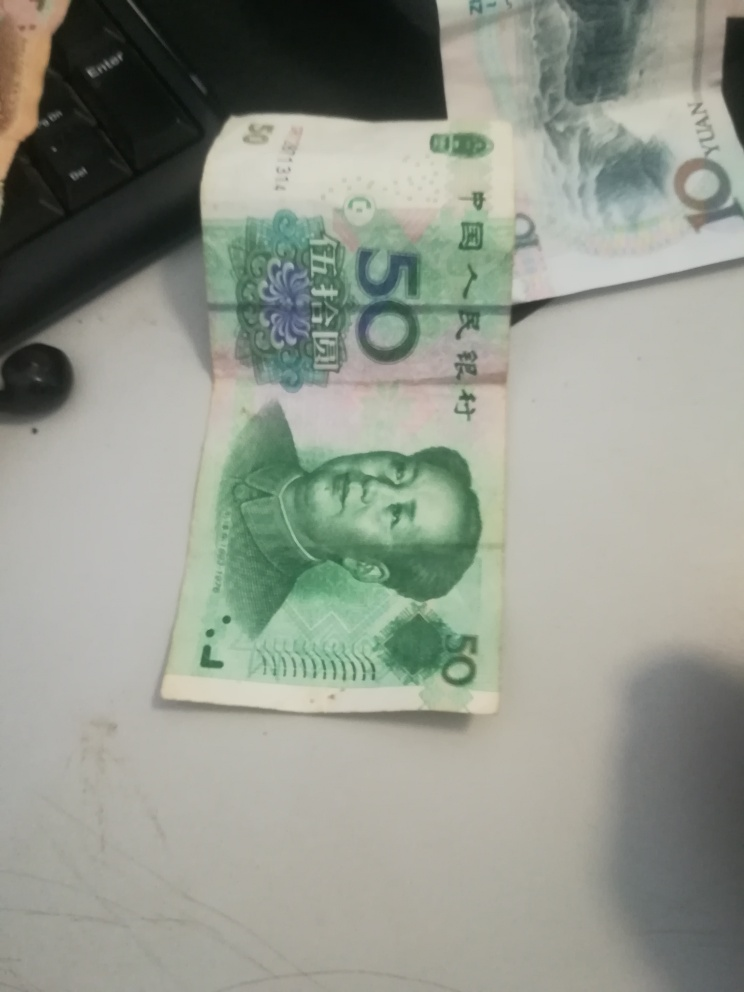rmb: (191, 108, 503, 719), (430, 5, 744, 312)
